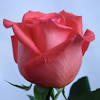rose: (1, 9, 98, 88)
